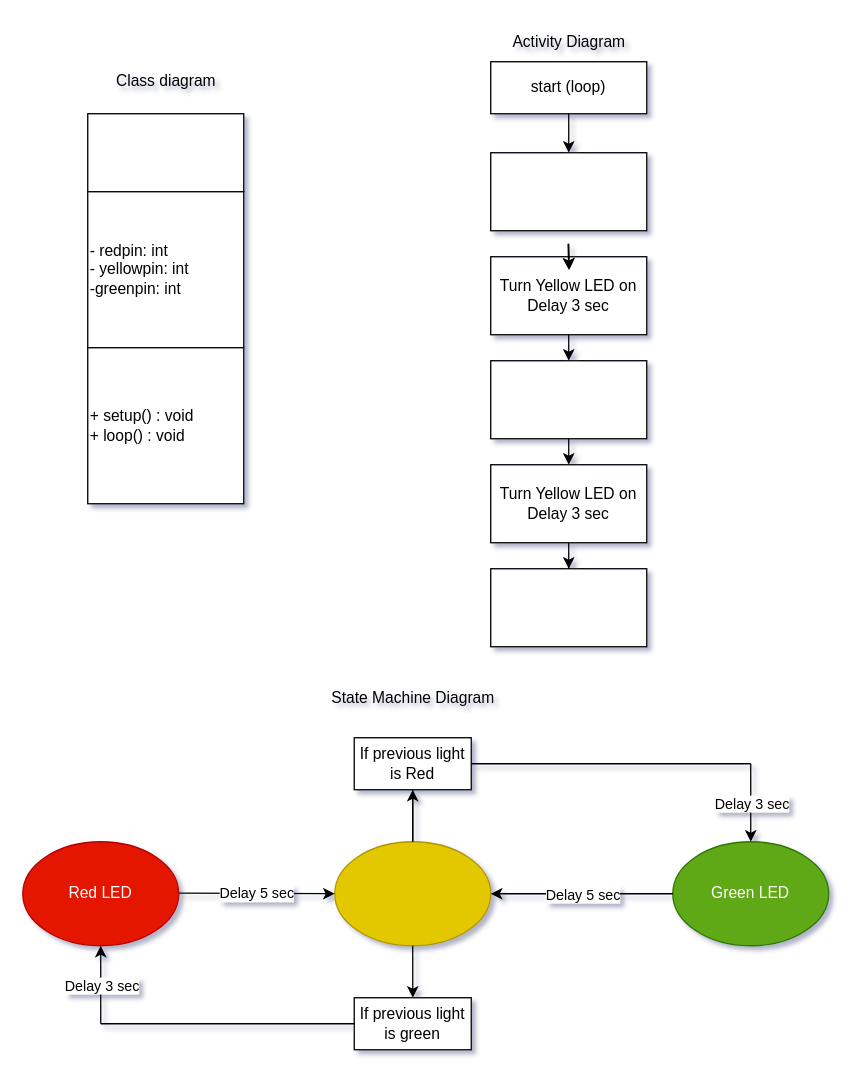
Image size: 859x1080. Some labels were removed from this diagram. The shapes that lost their labels are listed below. From the top down, each one's centre as x and y in pixels, then its label:
At pixel 165 152: "Traffic Light".
At pixel 568 191: "Turn Red LED on Delay 5 sec".
At pixel 568 399: "Turn Green LED on Delay 5 sec".
At pixel 568 607: "Repeat loop".
At pixel 412 893: "Yellow LED".
